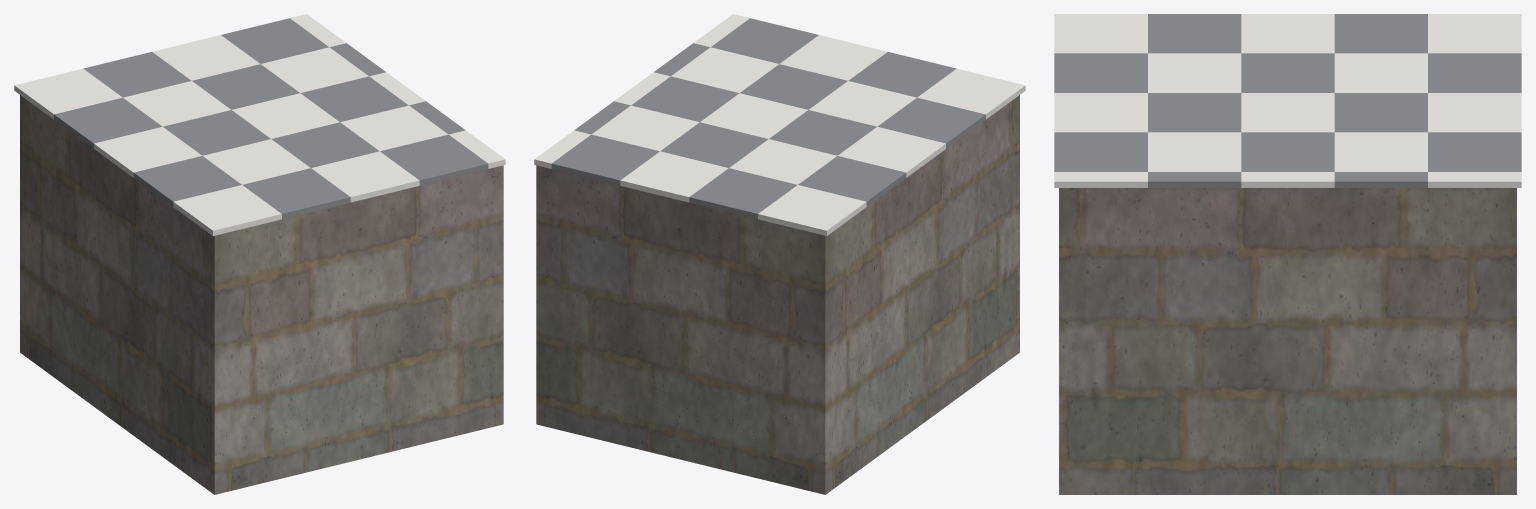
The model's file is floor_hall_g_e0_30_0_0.glb.
3 renders of one model, left to right at view 1: azimuth 30°, elevation 25°; view 2: azimuth 150°, elevation 25°; view 3: azimuth 270°, elevation 25°, orthographic. The views are drawn at different scales.
Visible parts, largest first — view 1: floor_hall_g_e0_30_0_0_plinth, floor_hall_g_e0_30_0_0_marble, floor_hall_g_e0_30_0_0_slate; view 2: floor_hall_g_e0_30_0_0_plinth, floor_hall_g_e0_30_0_0_marble, floor_hall_g_e0_30_0_0_slate; view 3: floor_hall_g_e0_30_0_0_plinth, floor_hall_g_e0_30_0_0_marble, floor_hall_g_e0_30_0_0_slate.
Part boxes in pixels (left/top/right/bottom): floor_hall_g_e0_30_0_0_plinth: left=20, top=95, right=503, bottom=494; floor_hall_g_e0_30_0_0_marble: left=14, top=14, right=505, bottom=235; floor_hall_g_e0_30_0_0_slate: left=54, top=18, right=488, bottom=219; floor_hall_g_e0_30_0_0_plinth: left=536, top=95, right=1019, bottom=494; floor_hall_g_e0_30_0_0_marble: left=534, top=14, right=1025, bottom=235; floor_hall_g_e0_30_0_0_slate: left=551, top=18, right=985, bottom=219; floor_hall_g_e0_30_0_0_plinth: left=1059, top=188, right=1516, bottom=494; floor_hall_g_e0_30_0_0_marble: left=1054, top=14, right=1521, bottom=187; floor_hall_g_e0_30_0_0_slate: left=1054, top=14, right=1521, bottom=187.
Size of the model in its own units: 1.7 by 1.48 by 2.
Materials: 3 (1 with a texture image).
